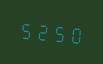five: (50, 19, 65, 45), (18, 17, 33, 42)
two: (34, 18, 49, 43)
zero: (66, 21, 81, 46)
